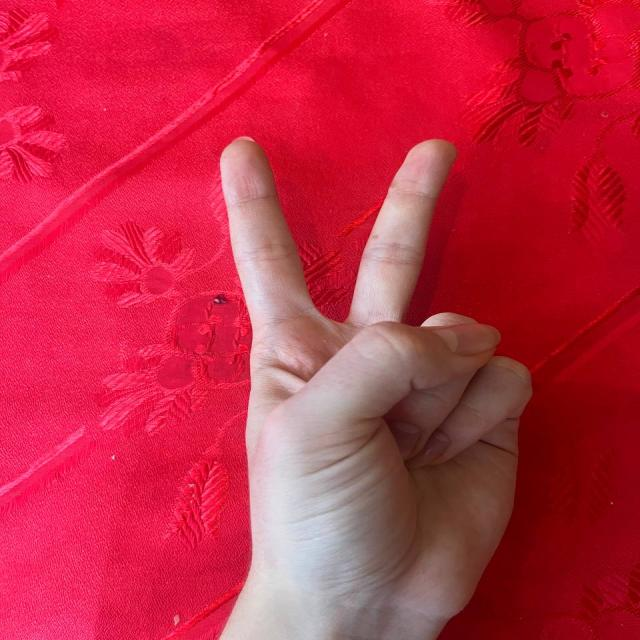k: (173, 111, 560, 586)
